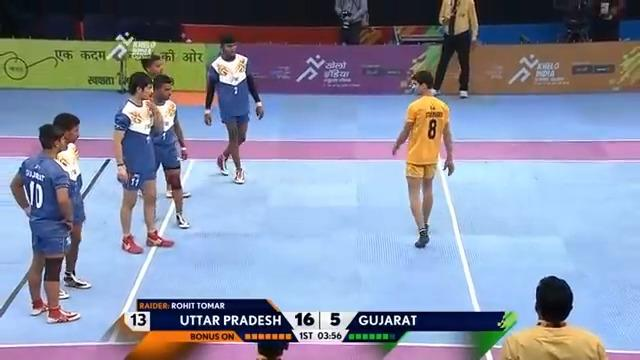Player: (9, 123, 81, 323), (112, 71, 174, 254), (497, 275, 608, 359), (203, 34, 264, 184), (139, 53, 191, 198), (51, 112, 91, 290), (429, 0, 479, 98)
Raider: (391, 69, 454, 248)
referee: (556, 0, 594, 42), (333, 0, 369, 44)
